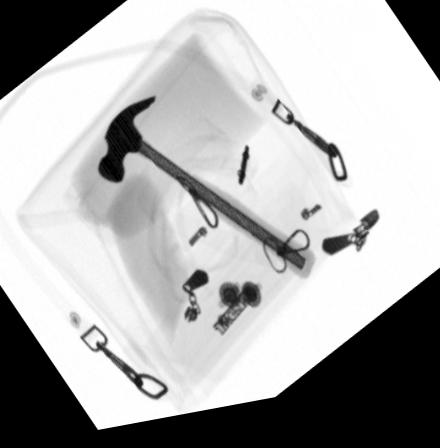Hammer: (96, 101, 317, 291)
